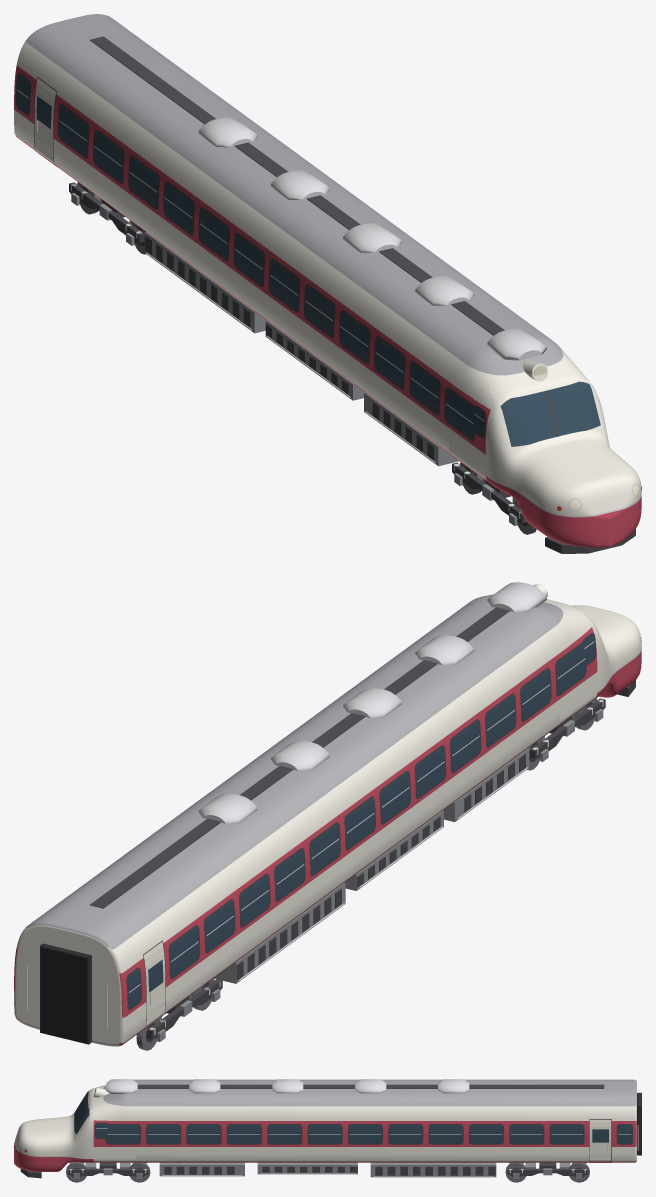
The model's file is 2_close.fbx.
The picture shows the model from 3 angles, top to bottom: view 1: azimuth 30°, elevation 25°; view 2: azimuth 150°, elevation 25°; view 3: azimuth 270°, elevation 25°; orthographic projection. The views are drawn at different scales.
Visible parts, largest first — view 1: 21_2_close; view 2: 21_2_close; view 3: 21_2_close.
Part boxes in pixels (x1,y1,x2,y2): 21_2_close: (14, 14, 641, 553); 21_2_close: (14, 582, 641, 1050); 21_2_close: (14, 1079, 641, 1182).
Bounding box in the file's own units: 3 × 4.04 × 25.
